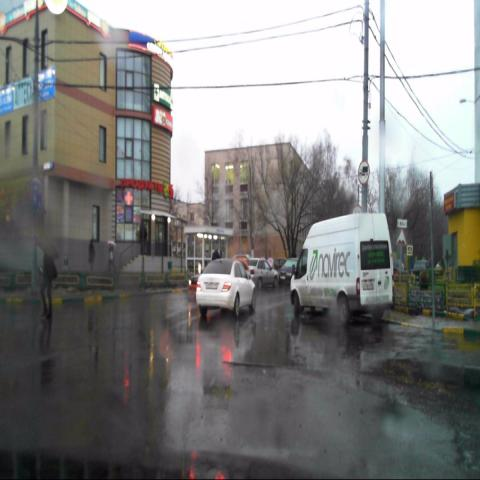3_4_1: (358, 161, 370, 186)
